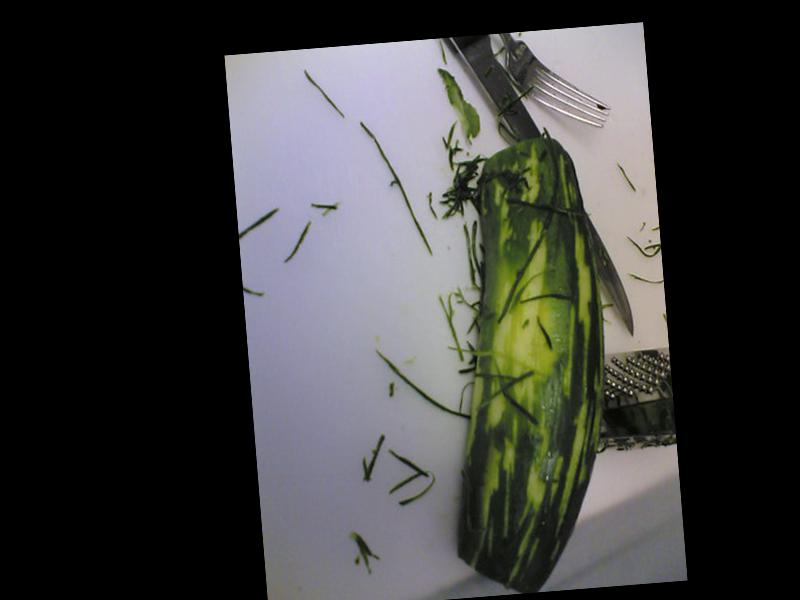Cucumber: (424, 133, 623, 595)
